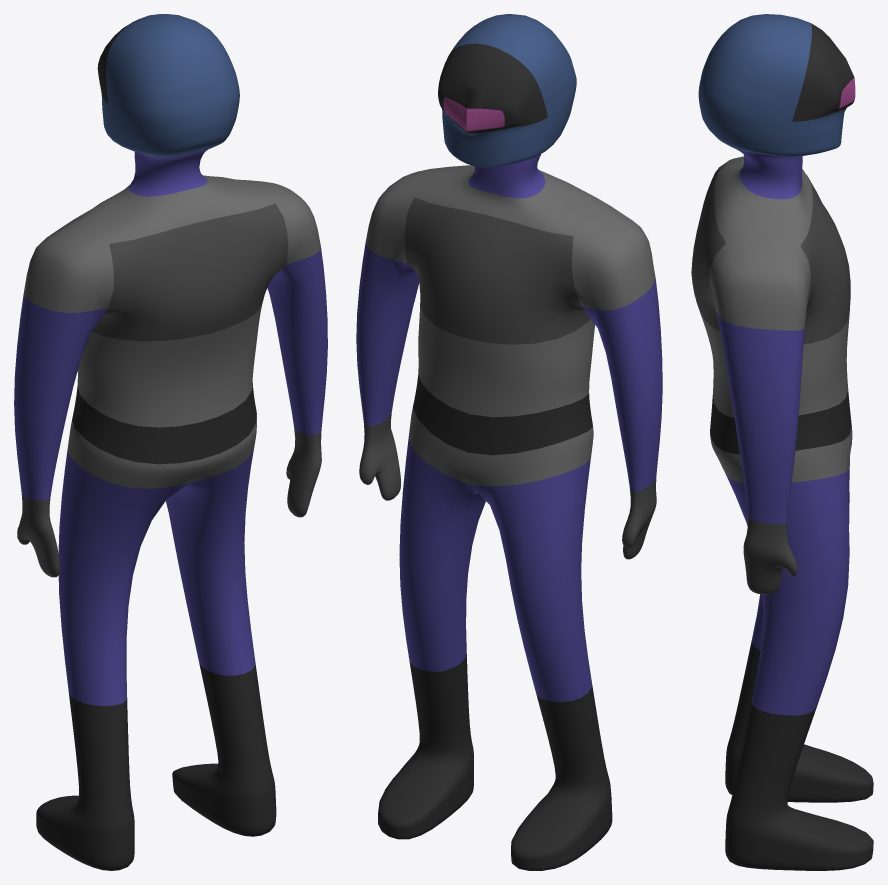
Rendered from Hybrid Human.fbx.
3 views of the same model, side by side, from view 1: azimuth 30°, elevation 25°; view 2: azimuth 150°, elevation 25°; view 3: azimuth 270°, elevation 25° (orthographic). The views are drawn at different scales.
Parts seen in each view (by area): view 1: Cube; view 2: Cube; view 3: Cube.
Boxes of the visible parts, x1=… form: Cube: x1=14, y1=14, x2=327, y2=870; Cube: x1=356, y1=14, x2=662, y2=870; Cube: x1=691, y1=14, x2=873, y2=870.
Bounding box in the file's own units: 274 × 710 × 145.
